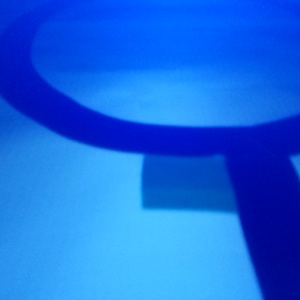bottom_left: (143, 125, 287, 212)
